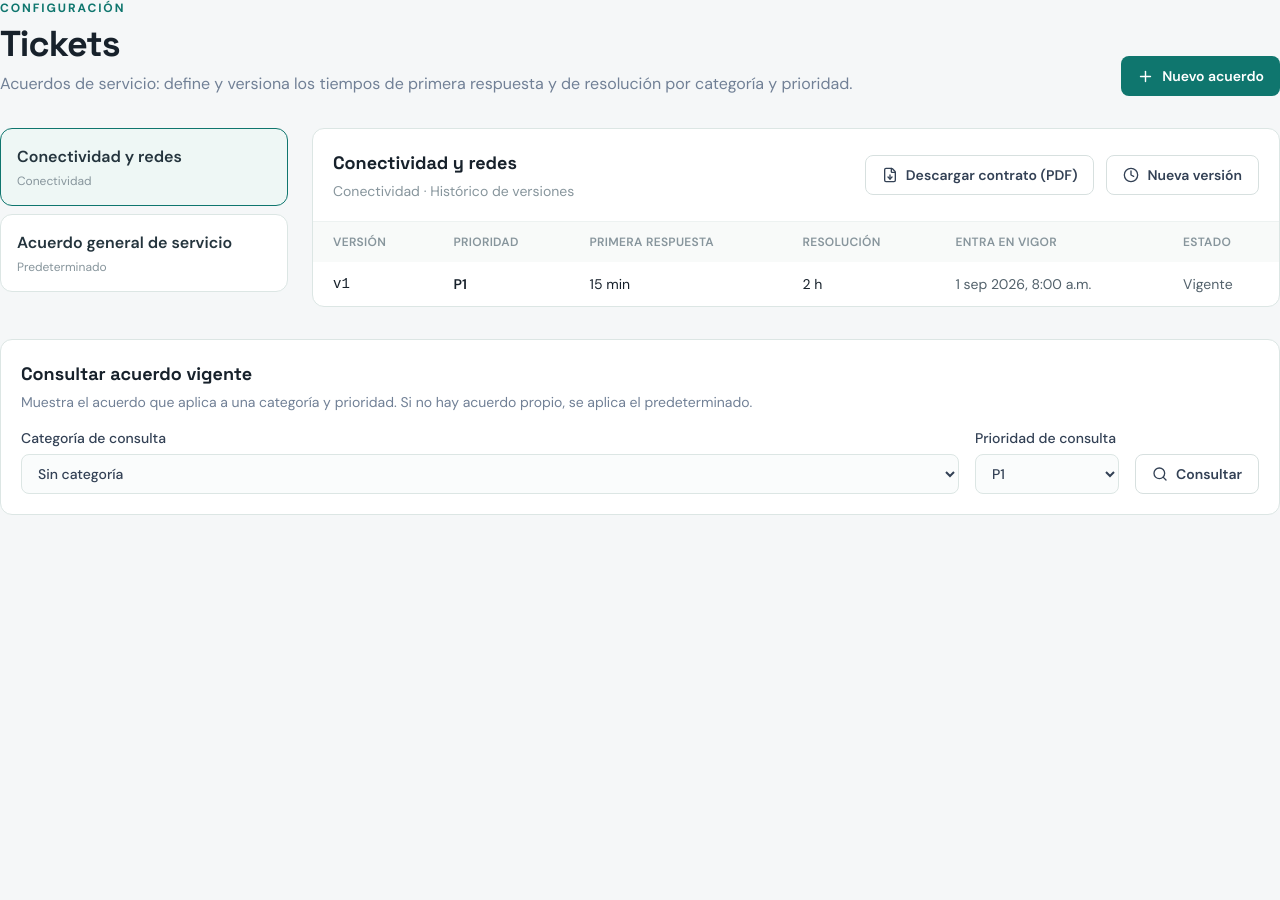
it: SlaPage: configuración de Tickets (S2-14, COR-05, HU-08.1) › COR-05: precarga los tiempos del acuerdo general en una versión nueva
Expected: the text "v1" is shown, x1=313 y1=262 x2=434 y2=306
Click the button "Nueva versión" at (1183, 175), box x1=1106 y1=155 x2=1259 y2=195
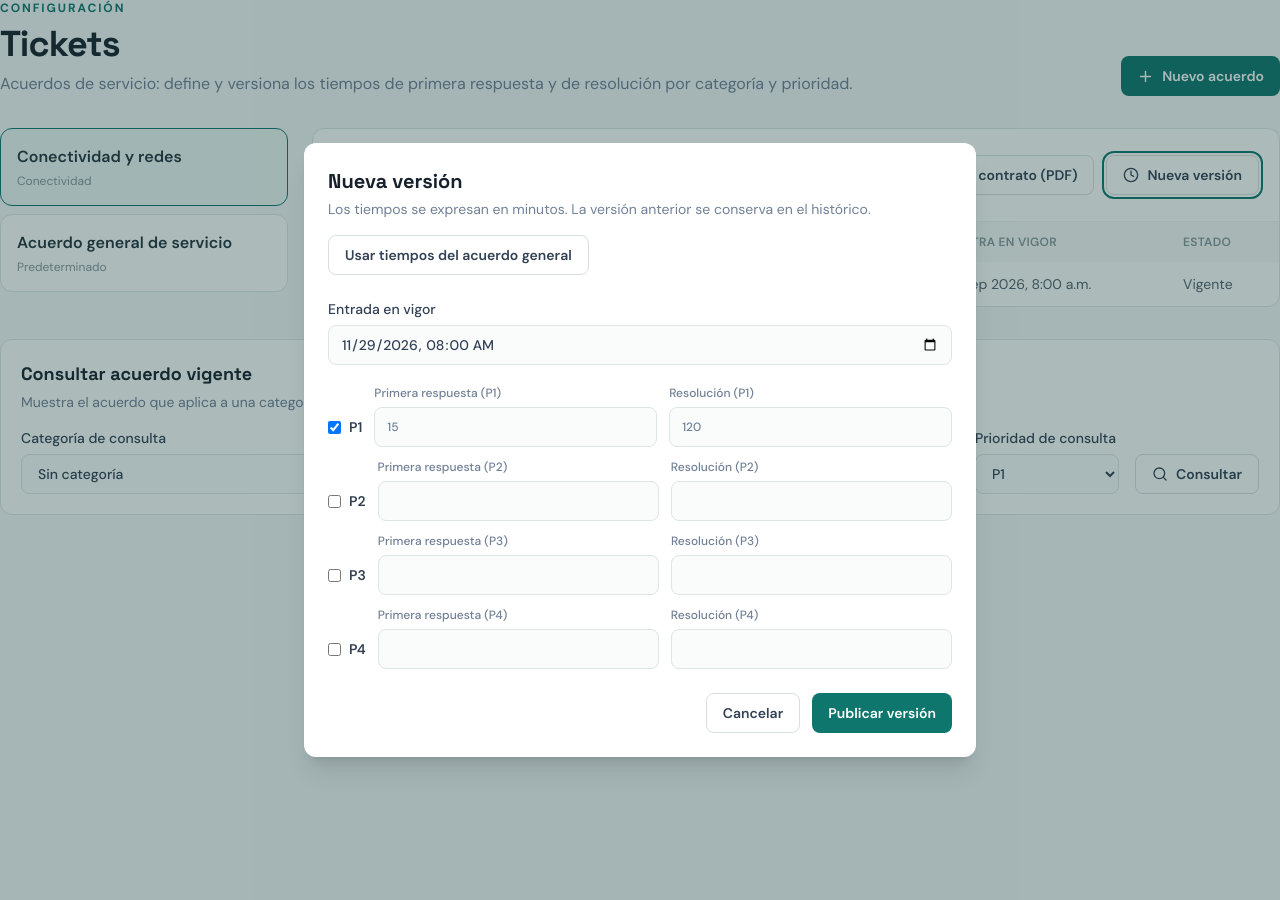
Click the button "Usar tiempos del acuerdo general" at (458, 255), box x1=328 y1=235 x2=589 y2=275
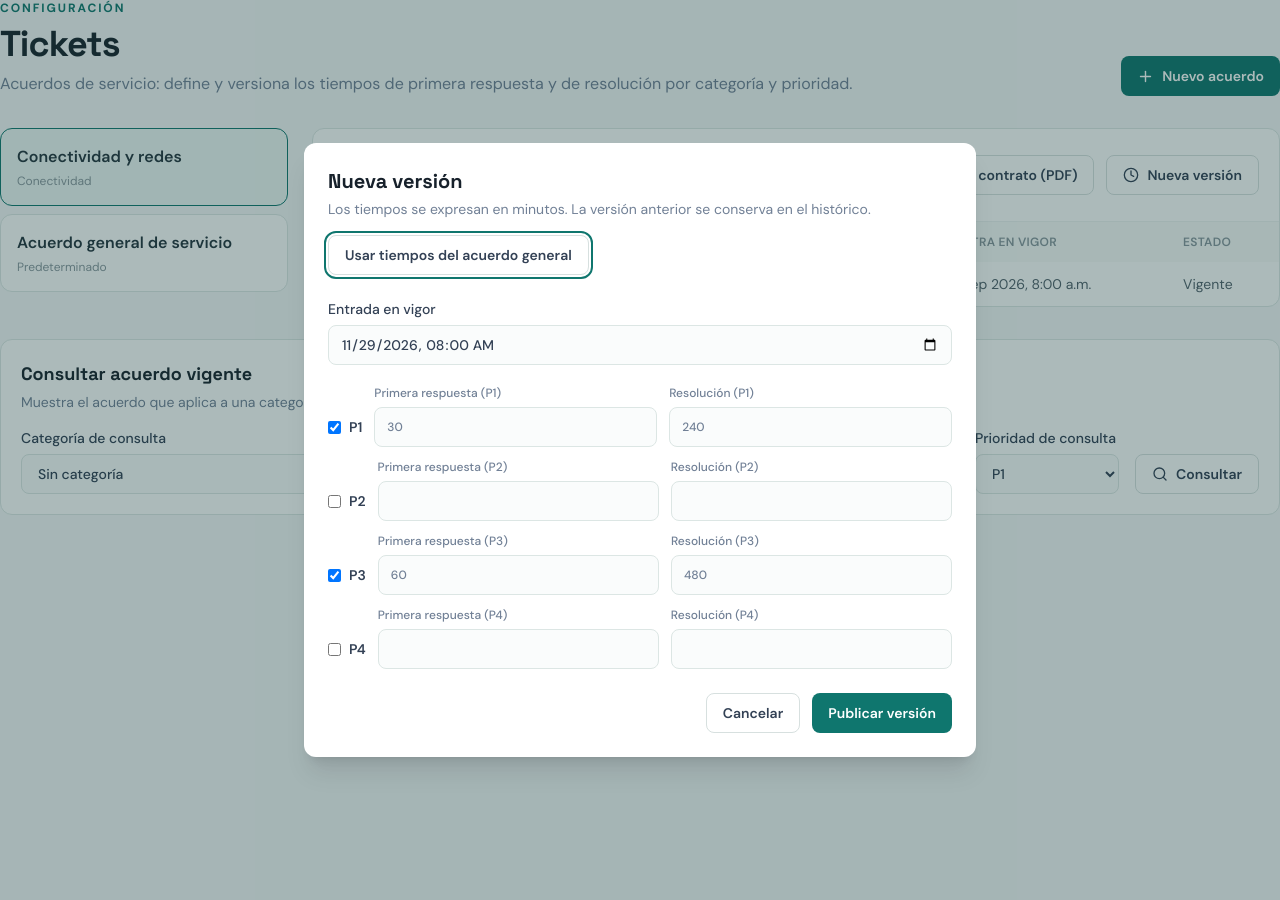
Result: the number field labelled "Primera respuesta (P1)" holds "30" at x1=374 y1=407 x2=657 y2=447
Result: the number field labelled "Resolución (P1)" holds "240" at x1=669 y1=407 x2=952 y2=447
Result: the checkbox named "Incluir P3" is checked at x1=328 y1=568 x2=341 y2=582
